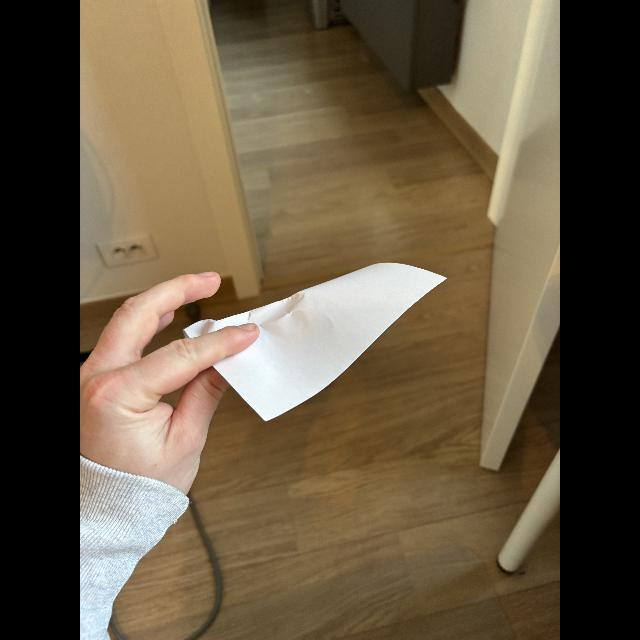Paper: (188, 259, 450, 425)
